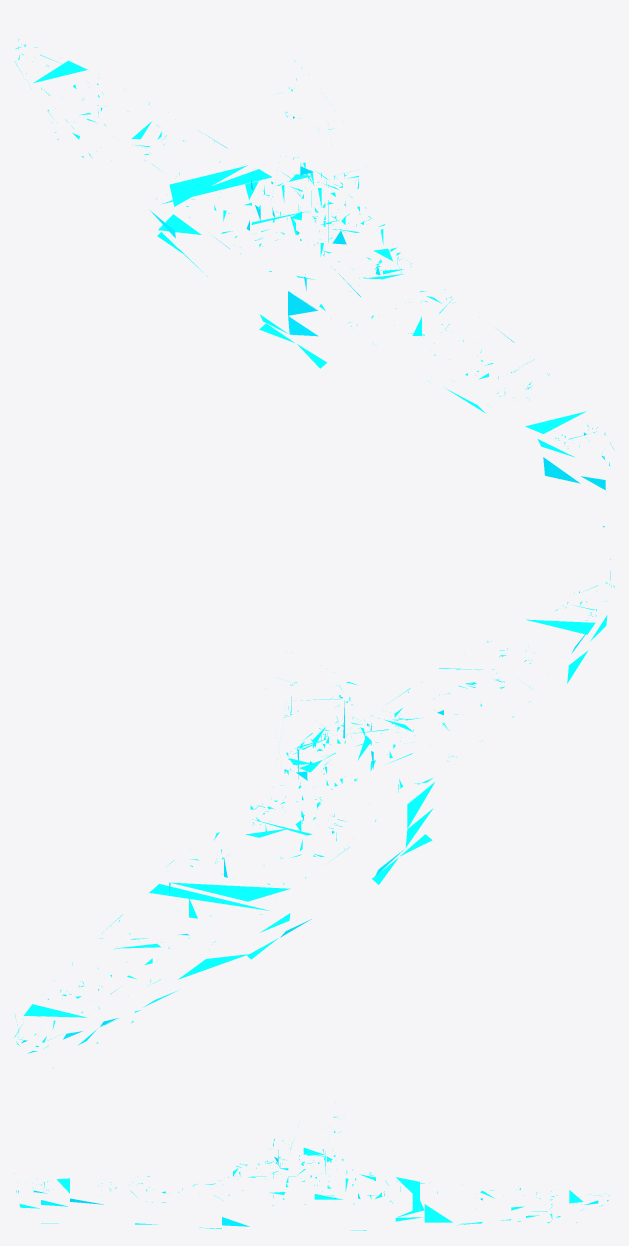
The model's file is Admiral_Schroder.glb.
The picture shows the model from 3 angles, top to bottom: view 1: azimuth 30°, elevation 25°; view 2: azimuth 150°, elevation 25°; view 3: azimuth 270°, elevation 25°; orthographic projection. The views are drawn at different scales.
Bounding box in the file's own units: 1.92 × 3.81 × 16.46.
